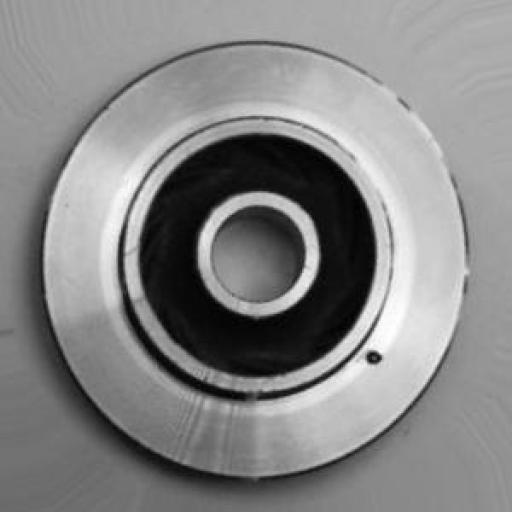defect: (346, 326, 402, 389)
